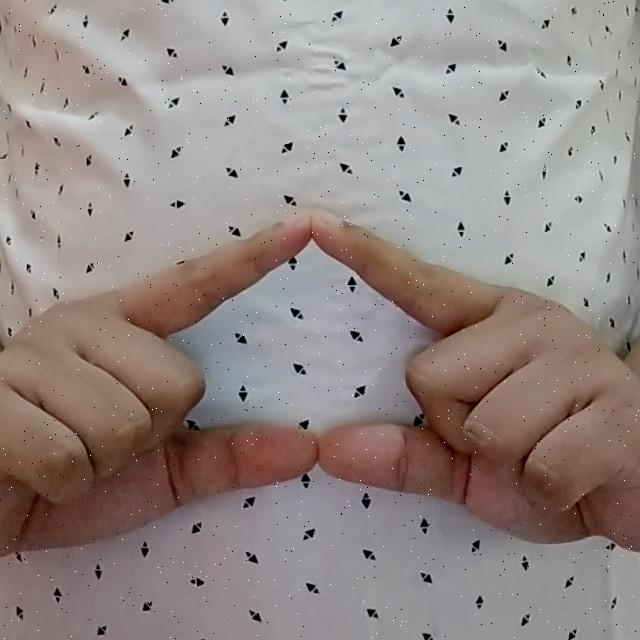A: (173, 245, 434, 431)
